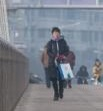person: (45, 26, 73, 101), (61, 48, 76, 88), (41, 45, 54, 89), (75, 64, 90, 85), (92, 59, 103, 85)
